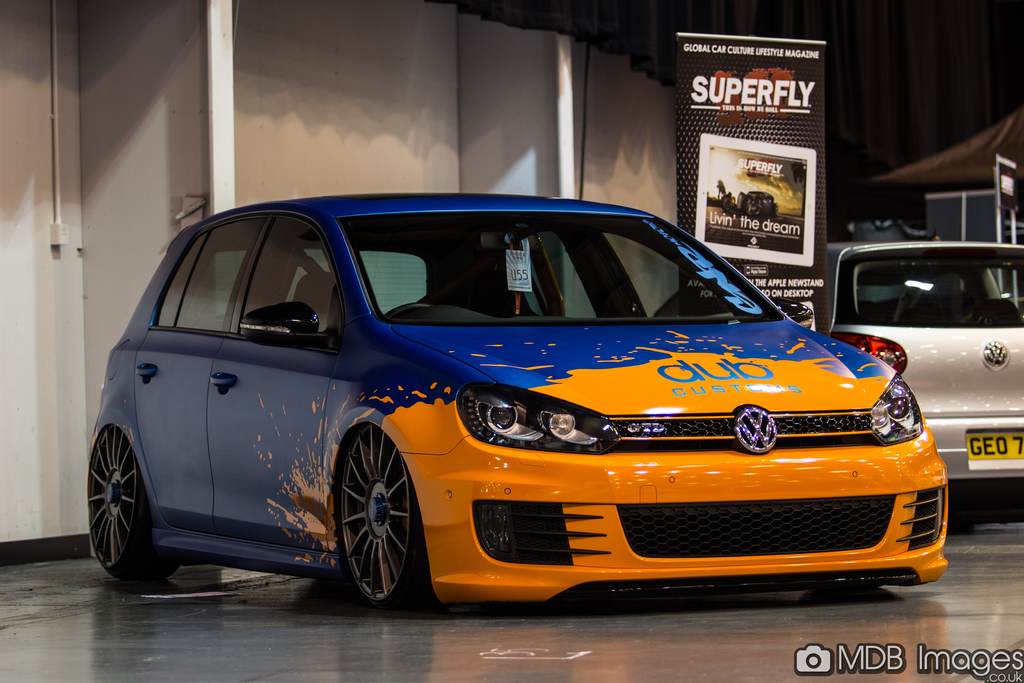Car: (83, 187, 944, 616), (821, 241, 1023, 513)
